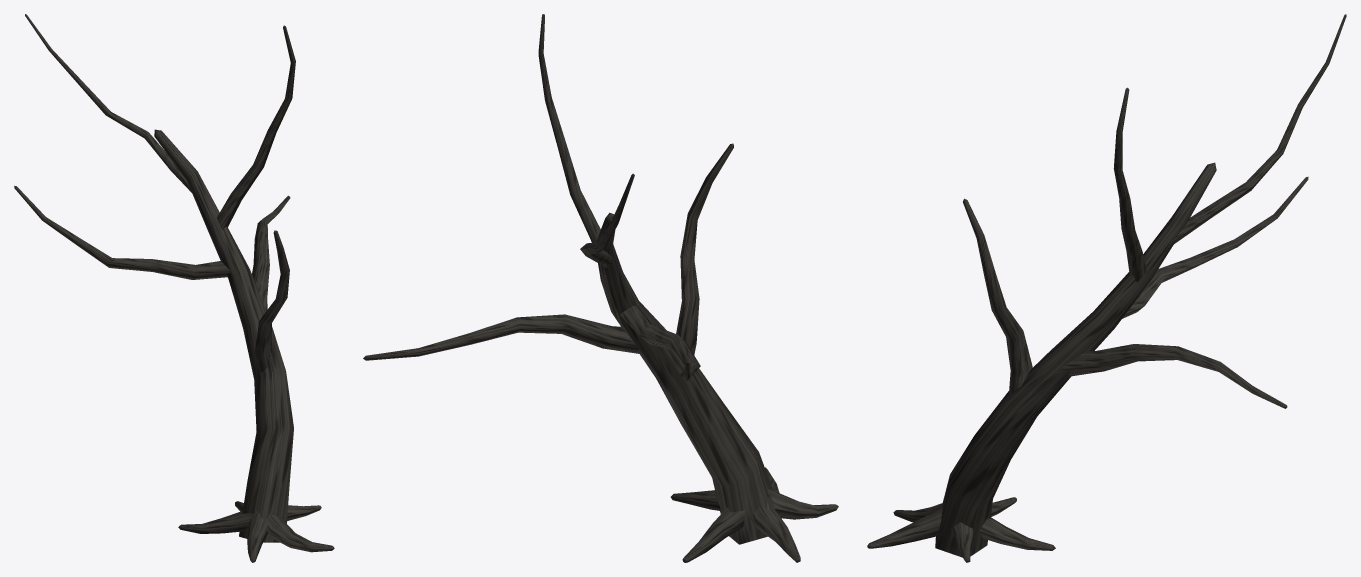
The model's file is GnarledDeadTree_1_LOD2.gltf.
3 renders of one model, left to right at view 1: azimuth 30°, elevation 25°; view 2: azimuth 150°, elevation 25°; view 3: azimuth 270°, elevation 25°, orthographic. The views are drawn at different scales.
Parts seen in each view (by area): view 1: GnarledDeadTree_1_LOD2; view 2: GnarledDeadTree_1_LOD2; view 3: GnarledDeadTree_1_LOD2.
Boxes of the visible parts, bbox=[...] form: GnarledDeadTree_1_LOD2: bbox=[14, 14, 334, 562]; GnarledDeadTree_1_LOD2: bbox=[363, 14, 838, 562]; GnarledDeadTree_1_LOD2: bbox=[867, 14, 1346, 562].
Bounding box in the file's own units: 6.43 × 10.19 × 8.63.
Materials: 1 (1 with a texture image).
